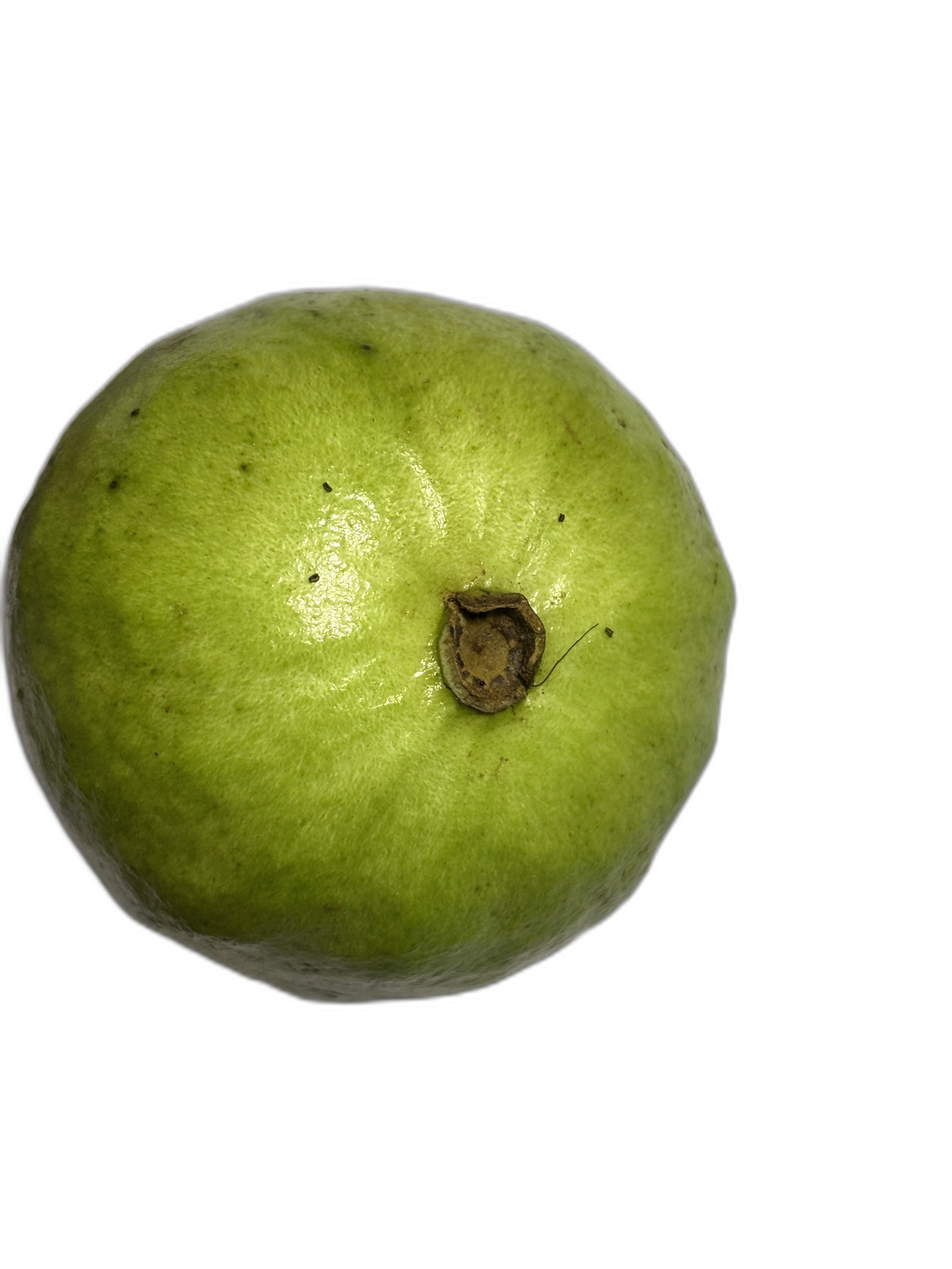guava: (218, 107, 826, 1075)
